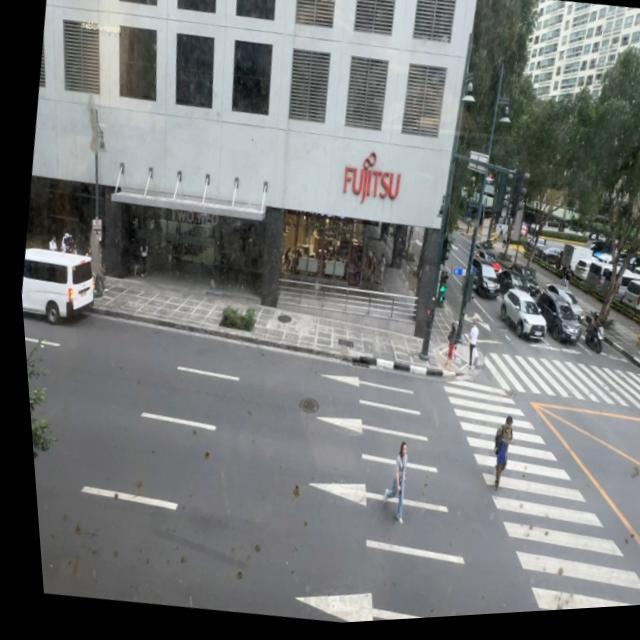jaywalking: (374, 440, 416, 526)
